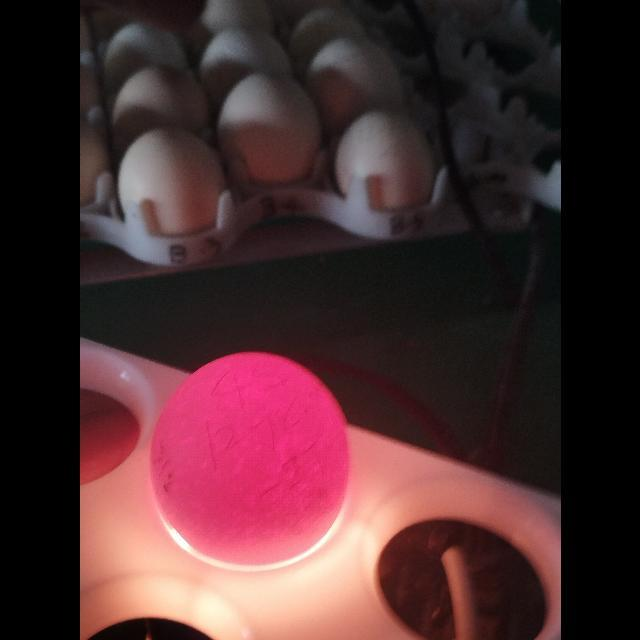Infertile: (147, 350, 351, 568)
